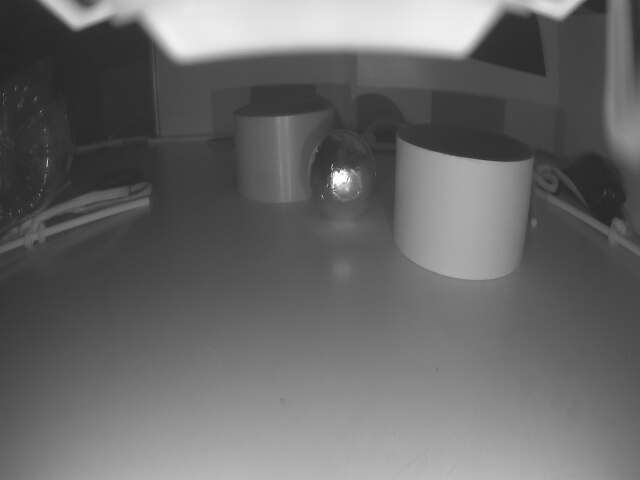Live: (305, 131, 379, 219)
